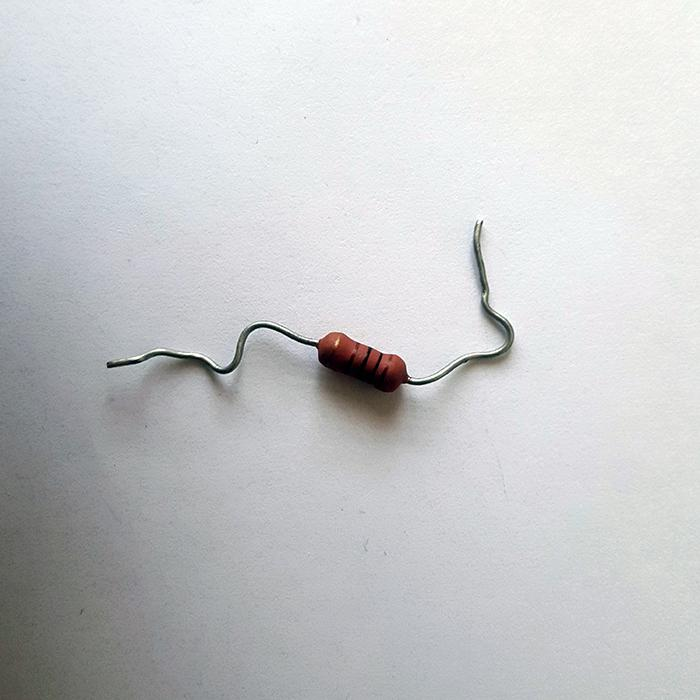resistor: (315, 330, 408, 392)
